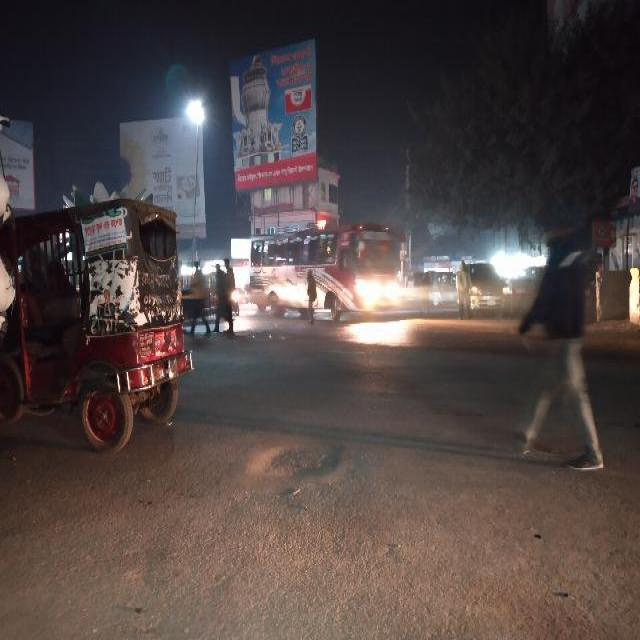vehicle: (10, 208, 193, 461), (249, 232, 406, 330), (464, 265, 515, 316)
